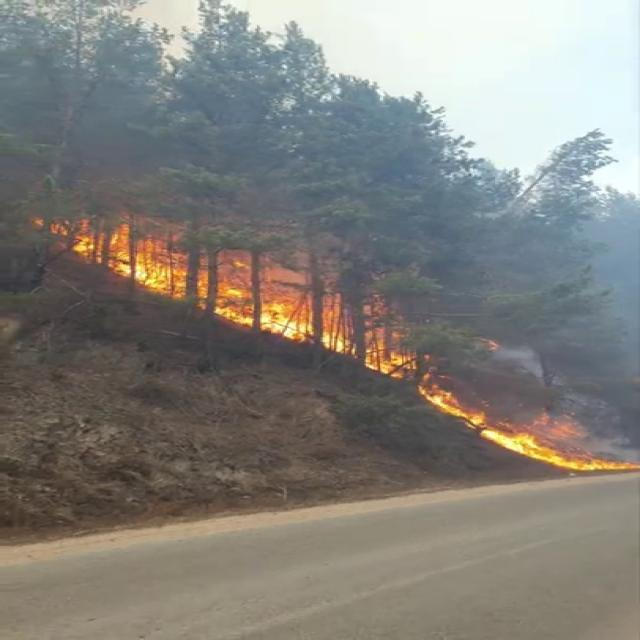Fire: (210, 261, 421, 377), (412, 376, 636, 474), (45, 210, 234, 311)
